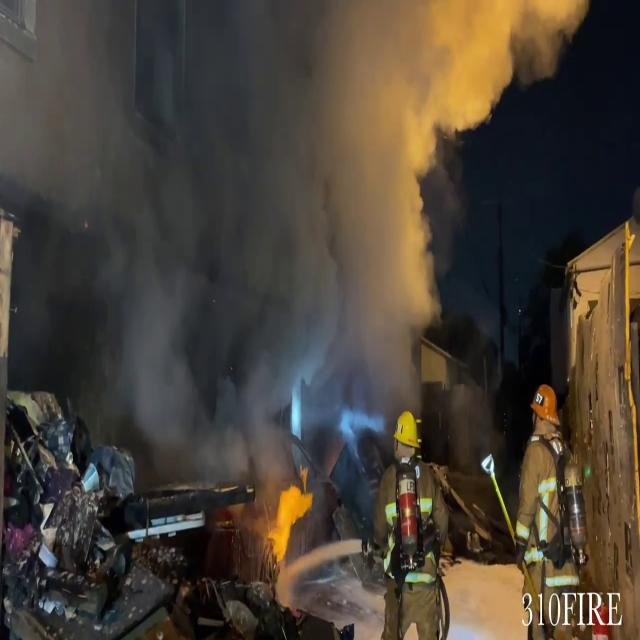Fire: (266, 473, 314, 565)
Smoke: (0, 2, 538, 424)
